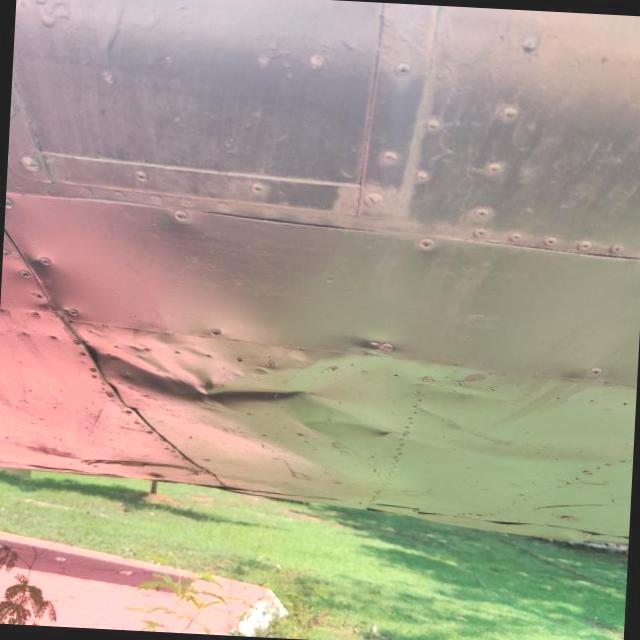dent: (72, 323, 332, 441)
